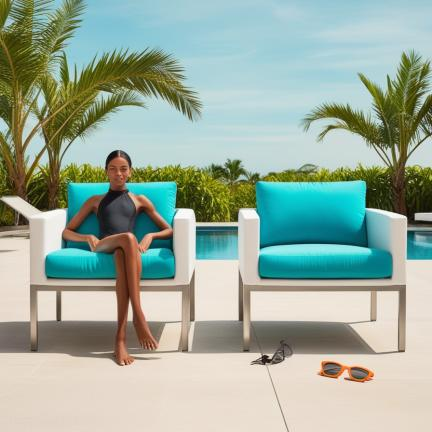empty chair: (239, 181, 407, 351)
guest on chair: (30, 150, 196, 365)
